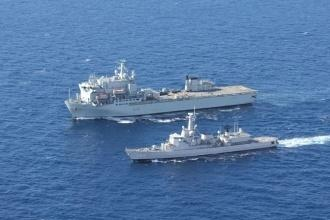warship: (65, 61, 248, 121), (121, 109, 281, 167)
